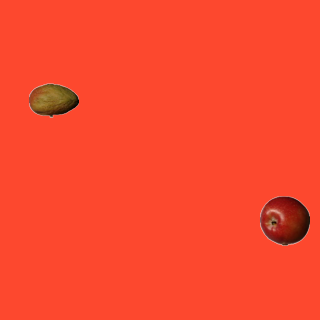Apple Braeburn: (259, 195, 309, 245)
Papaya: (28, 75, 78, 125)
